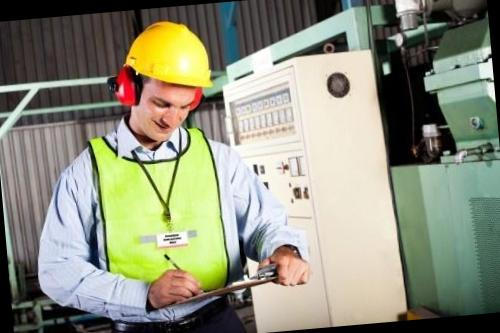Vest: (89, 118, 235, 324)
